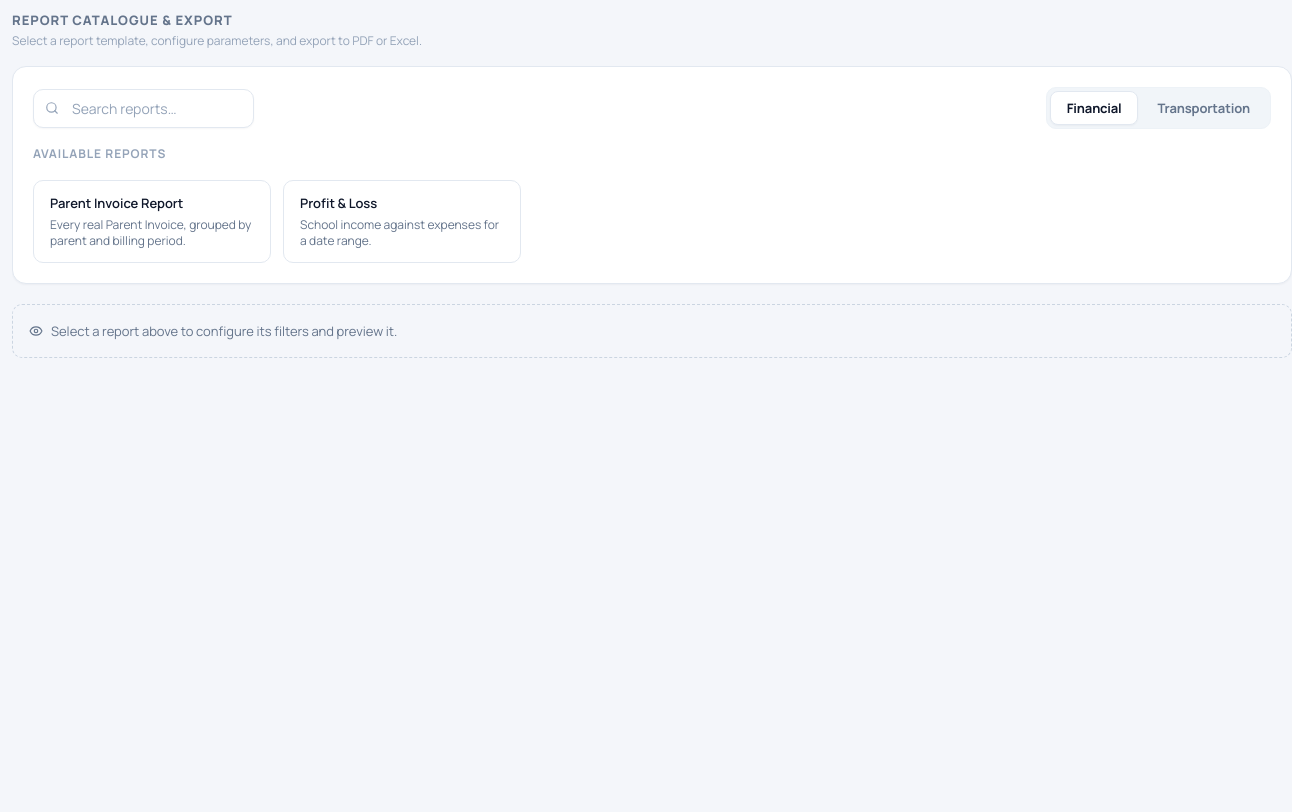
ReportsPage — organization Report Center › shows no filters until a report is selected, then only that report's own accepts list
The width and height of the screenshot is (1292, 812).
Click the text "Parent Invoice Report".
click(117, 203)  # box [50, 193, 183, 213]
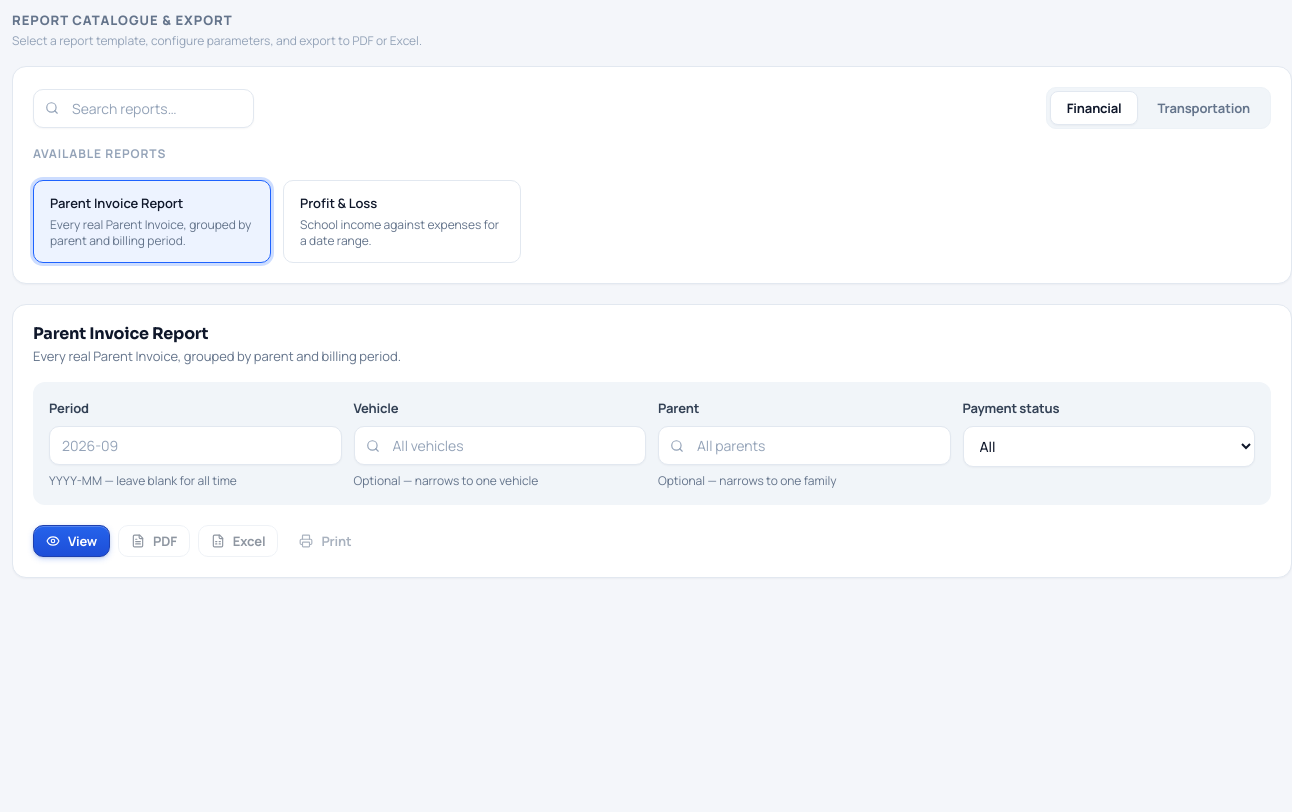
Expected: the field labelled "Period YYYY-MM — leave blank for all time" is shown, [49, 426, 342, 465]
Expected: the field labelled "Vehicle Optional — narrows to one vehicle" is shown, [354, 426, 646, 465]
Expected: the field labelled "Parent Optional — narrows to one family" is shown, [658, 426, 950, 465]
